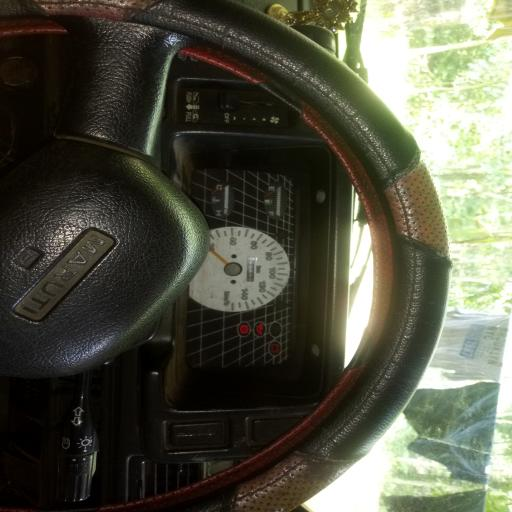brake_system_fault: (240, 325, 248, 334)
oil: (257, 324, 263, 335)
vehicle_charging: (272, 344, 278, 352)
